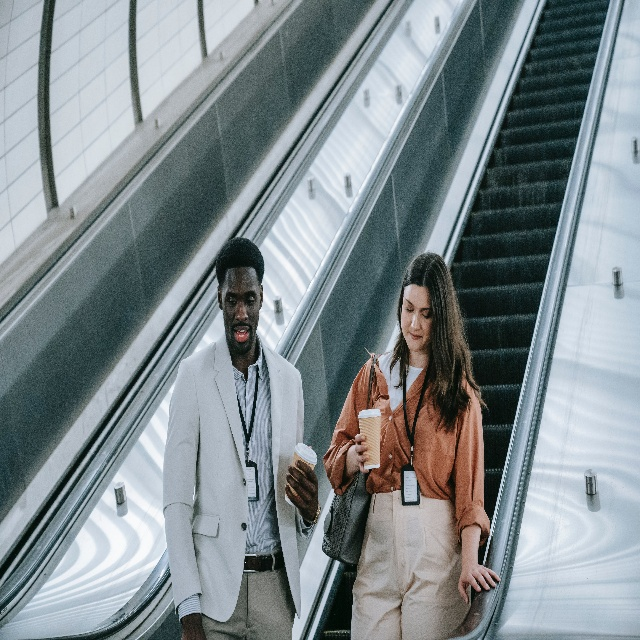Sin_guantes: (285, 458, 318, 523), (458, 562, 501, 604), (355, 433, 369, 475)
